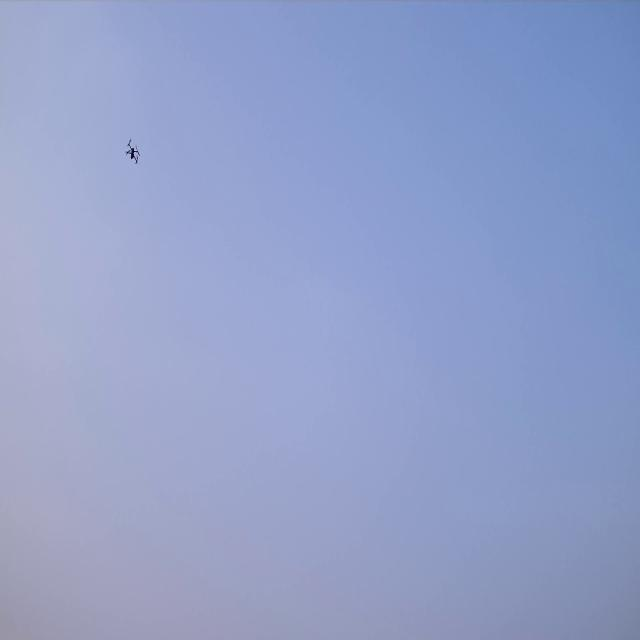UAV: (124, 136, 141, 165)
